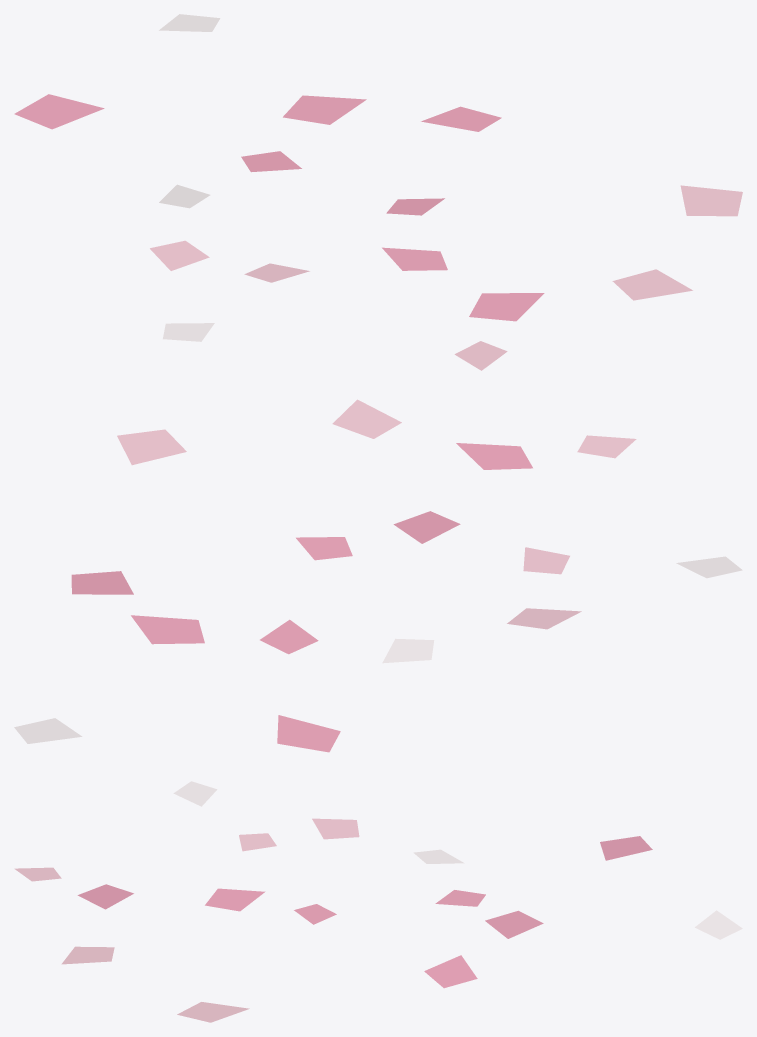
The model's file is petal_litter_a.glb.
3 renders of one model, top to bottom at view 1: azimuth 30°, elevation 25°; view 2: azimuth 150°, elevation 25°; view 3: azimuth 270°, elevation 25°, orthographic. The views are drawn at different scales.
Visible parts, largest first — view 1: petal_litter_a; view 2: petal_litter_a; view 3: petal_litter_a.
Boxes of the visible parts, x1=… form: petal_litter_a: x1=14, y1=14, x2=742, y2=370; petal_litter_a: x1=14, y1=399, x2=742, y2=752; petal_litter_a: x1=14, y1=781, x2=742, y2=1022.
Bounding box in the file's own units: 1.04 × 0.0278 × 1.36.
